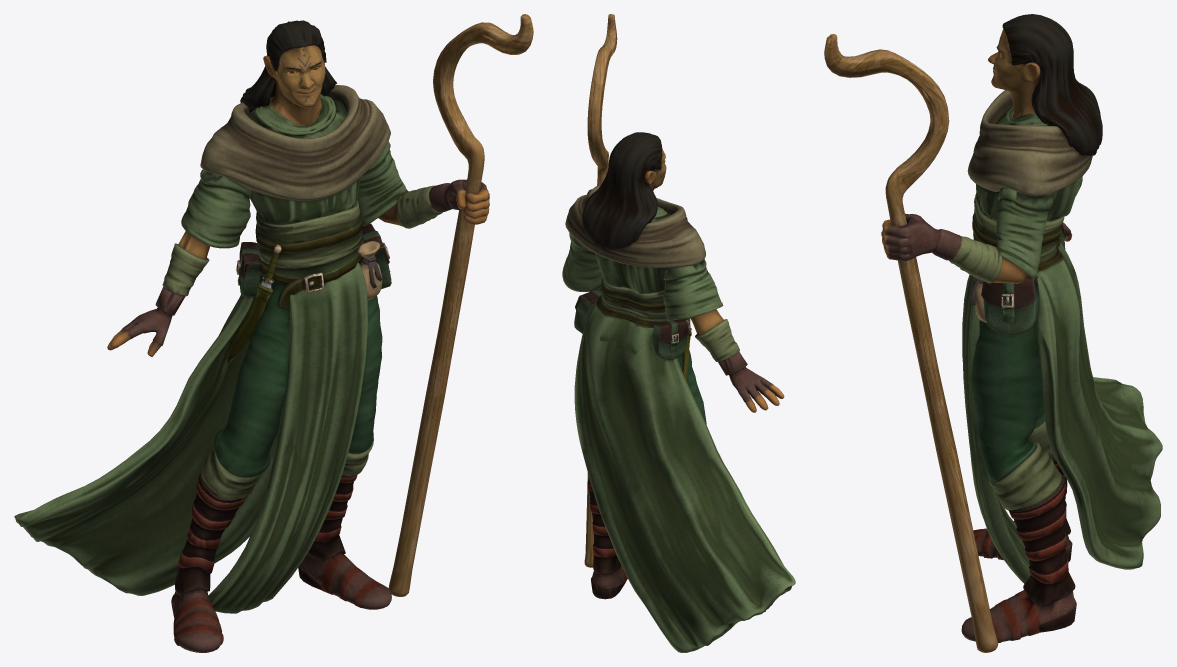
Rendered from MZ4250 - Druid Male_A.glb.
The picture shows the model from 3 angles, left to right: view 1: azimuth 30°, elevation 25°; view 2: azimuth 150°, elevation 25°; view 3: azimuth 270°, elevation 25°; orthographic projection. The views are drawn at different scales.
Visible parts, largest first — view 1: Pouch Generic 2.001; view 2: Pouch Generic 2.001; view 3: Pouch Generic 2.001.
Part boxes in pixels (x1=…): Pouch Generic 2.001: x1=14, y1=14, x2=533, y2=652; Pouch Generic 2.001: x1=562, y1=14, x2=795, y2=652; Pouch Generic 2.001: x1=824, y1=14, x2=1162, y2=652.
Size of the model in its own units: 0.6186 by 0.9968 by 0.47.
1 material, 1 textured.
